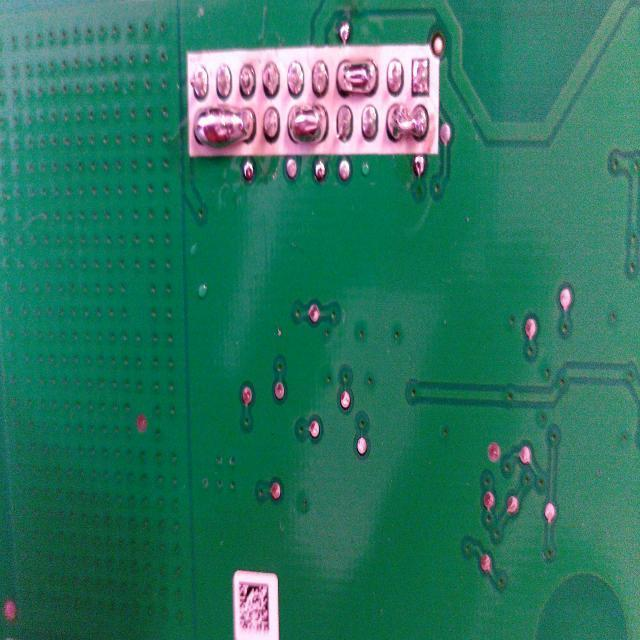Soldering shorted: (192, 104, 256, 158), (284, 102, 330, 148), (385, 100, 429, 146), (336, 54, 378, 97)
